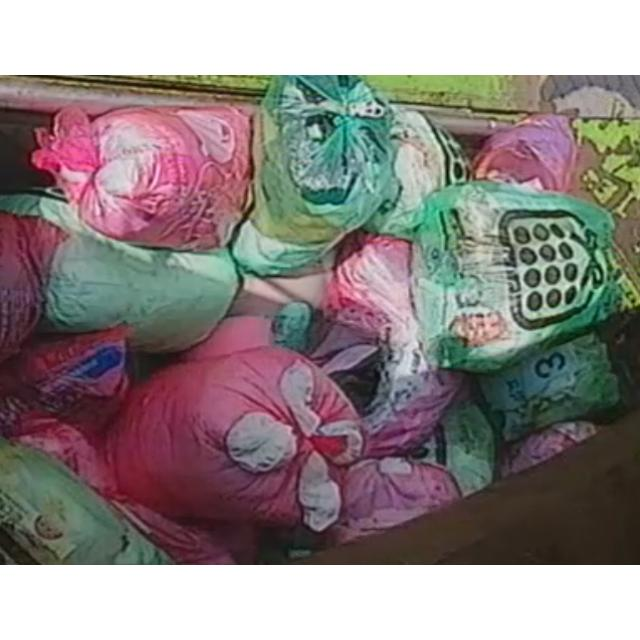general_trashbag: (414, 181, 620, 372), (0, 189, 240, 352), (231, 76, 402, 276), (0, 438, 170, 563), (479, 332, 619, 441), (366, 105, 468, 234)
other_trashbag: (106, 346, 364, 530), (310, 235, 461, 458), (31, 106, 251, 250), (0, 328, 130, 436), (339, 458, 460, 542), (0, 214, 65, 362), (472, 115, 578, 192), (501, 421, 595, 477)
